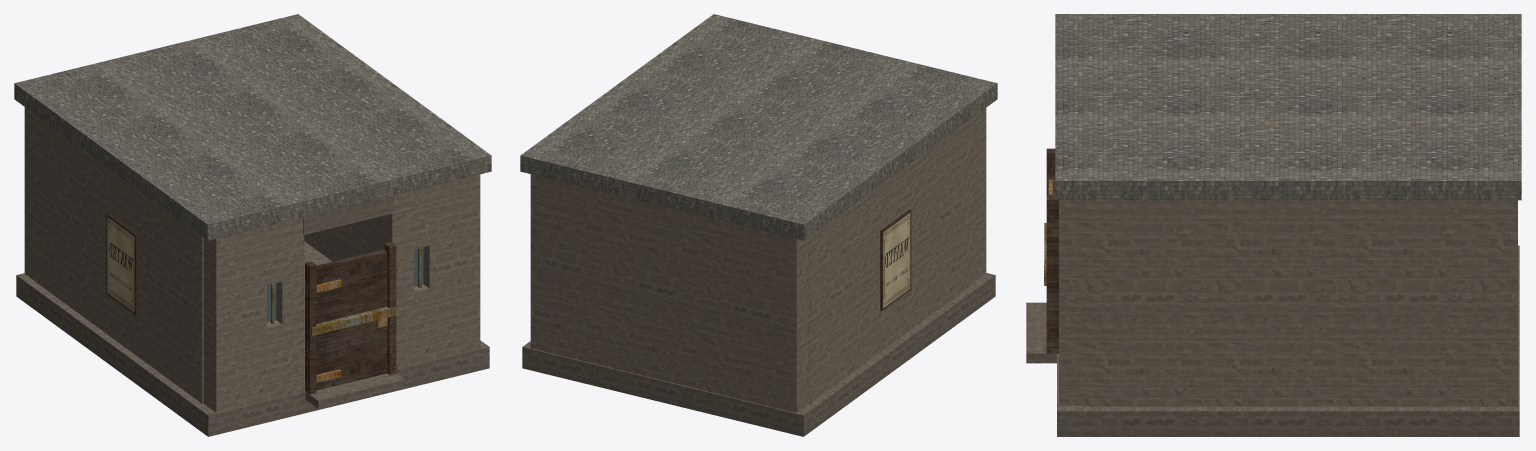
File: stone_calaboose.glb
The picture shows the model from 3 angles, left to right: view 1: azimuth 30°, elevation 25°; view 2: azimuth 150°, elevation 25°; view 3: azimuth 270°, elevation 25°; orthographic projection. The views are drawn at different scales.
Parts seen in each view (by area): view 1: Roof, WestWall, FrontWest (×2), FrontEast (×2), Foundation, OakDoor, Jail door jamb (×2), BackWall, EastWall, WantedPoster, Jail door threshold, Lintel (+6 smaller); view 2: Roof, BackWall, WestWall, Foundation, WantedPoster, FrontWest, WantedBackingBoard; view 3: Roof, EastWall, Foundation, BackWall, FrontEast, Jail door jamb, Jail door threshold.
Boxes of the visible parts, x1,y1,x2,y2 form: Roof: (14,14,491,240); WestWall: (37,116,203,403); FrontWest (×2): (203,217,304,412); FrontEast (×2): (379,174,480,368); Foundation: (16,241,489,436); OakDoor: (316,249,387,390); Jail door jamb (×2): (305,242,396,394); BackWall: (24,107,36,282); EastWall: (304,217,378,261); WantedPoster: (107,217,134,312); Jail door threshold: (305,373,404,408); Lintel: (303,195,393,234); Roof: (520,14,997,240); BackWall: (530,174,809,412); WestWall: (809,116,974,403); Foundation: (522,273,995,436); WantedPoster: (883,213,910,307); FrontWest: (975,108,986,281); WantedBackingBoard: (880,209,911,311); Roof: (1055,14,1521,200); EastWall: (1089,200,1487,406); Foundation: (1057,245,1519,436); BackWall: (1487,200,1517,406); FrontEast: (1059,200,1088,405); Jail door jamb: (1046,195,1058,353); Jail door threshold: (1026,302,1057,363).
Size of the model in its own units: 5.55 by 3.98 by 6.96.
Materials: 9 (8 with a texture image).
